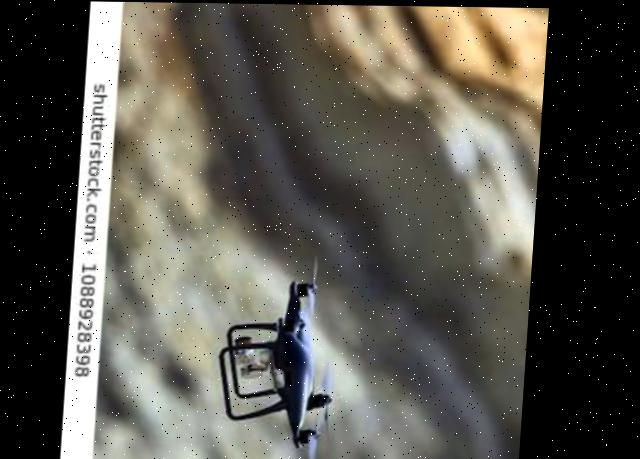drone: (209, 233, 363, 459)
